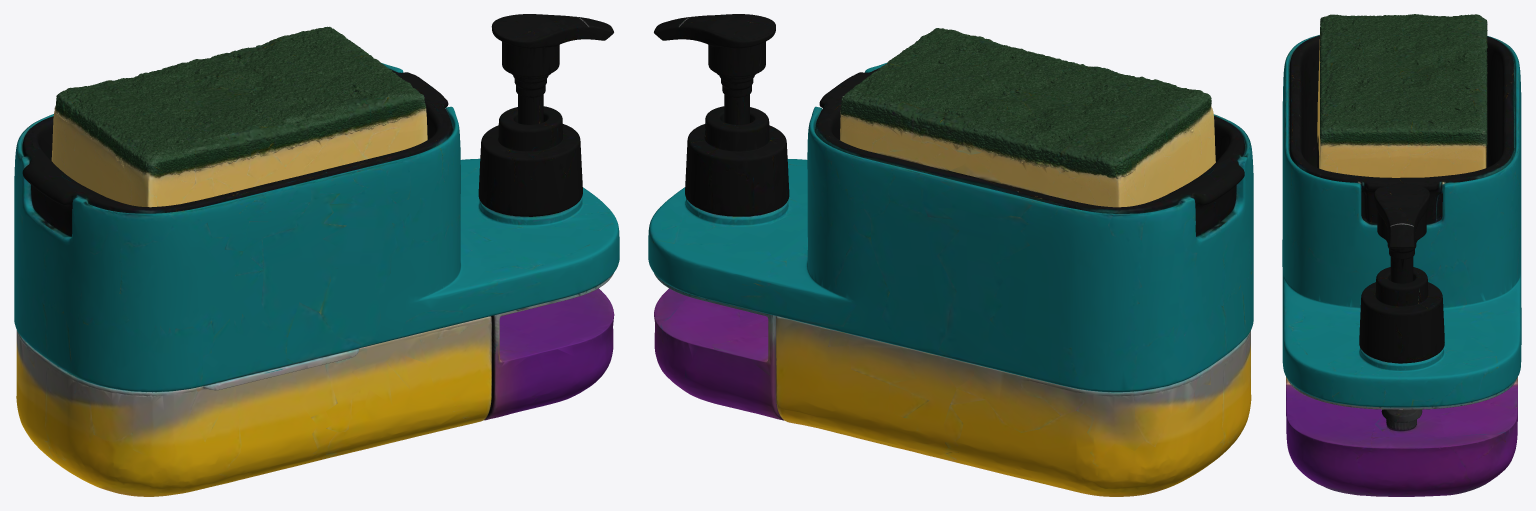
3 views of the same model, side by side, from view 1: azimuth 30°, elevation 25°; view 2: azimuth 150°, elevation 25°; view 3: azimuth 270°, elevation 25° (orthographic). The views are drawn at different scales.
Size of the model in its own units: 1.9 by 1.09 by 0.7975.
Materials: 1 (1 with a texture image).
